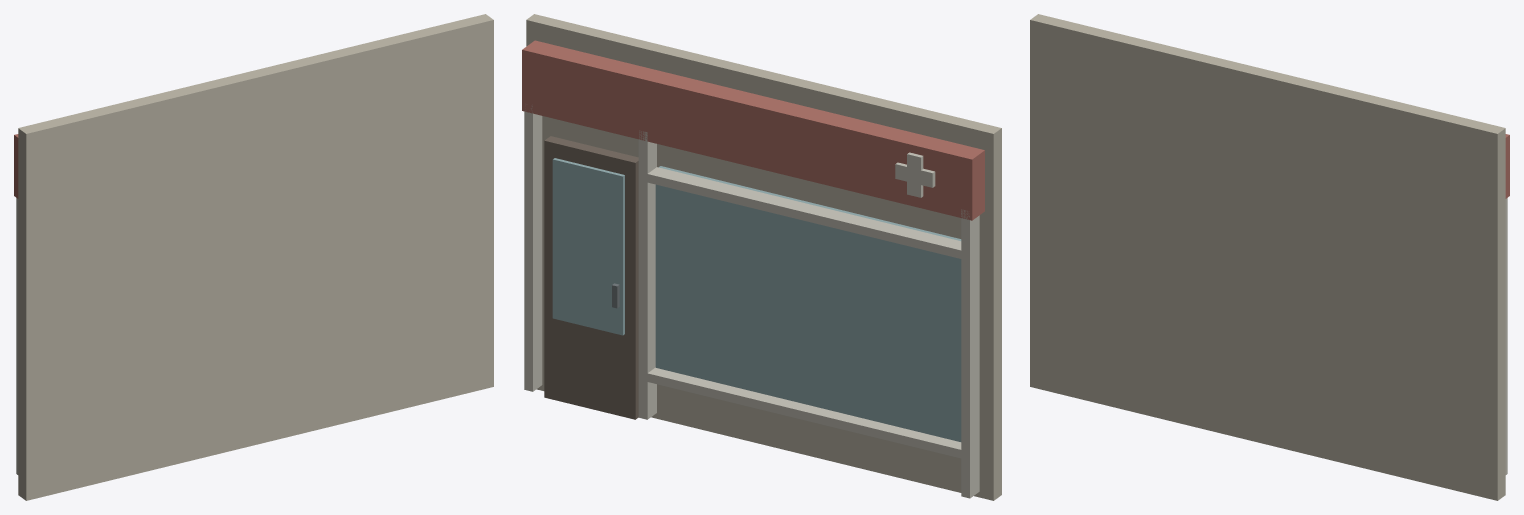
Rendered from facade_pharmacy.glb.
3 renders of one model, left to right at view 1: azimuth 30°, elevation 25°; view 2: azimuth 150°, elevation 25°; view 3: azimuth 330°, elevation 25°, orthographic.
Parts seen in each view (by area): view 1: body; view 2: body; view 3: body.
Part boxes in pixels (<box>): body: <box>14,14,493,500</box>; body: <box>522,14,1001,500</box>; body: <box>1030,14,1509,500</box>.
Bounding box in the file's own units: 4 × 3 × 0.3475.
